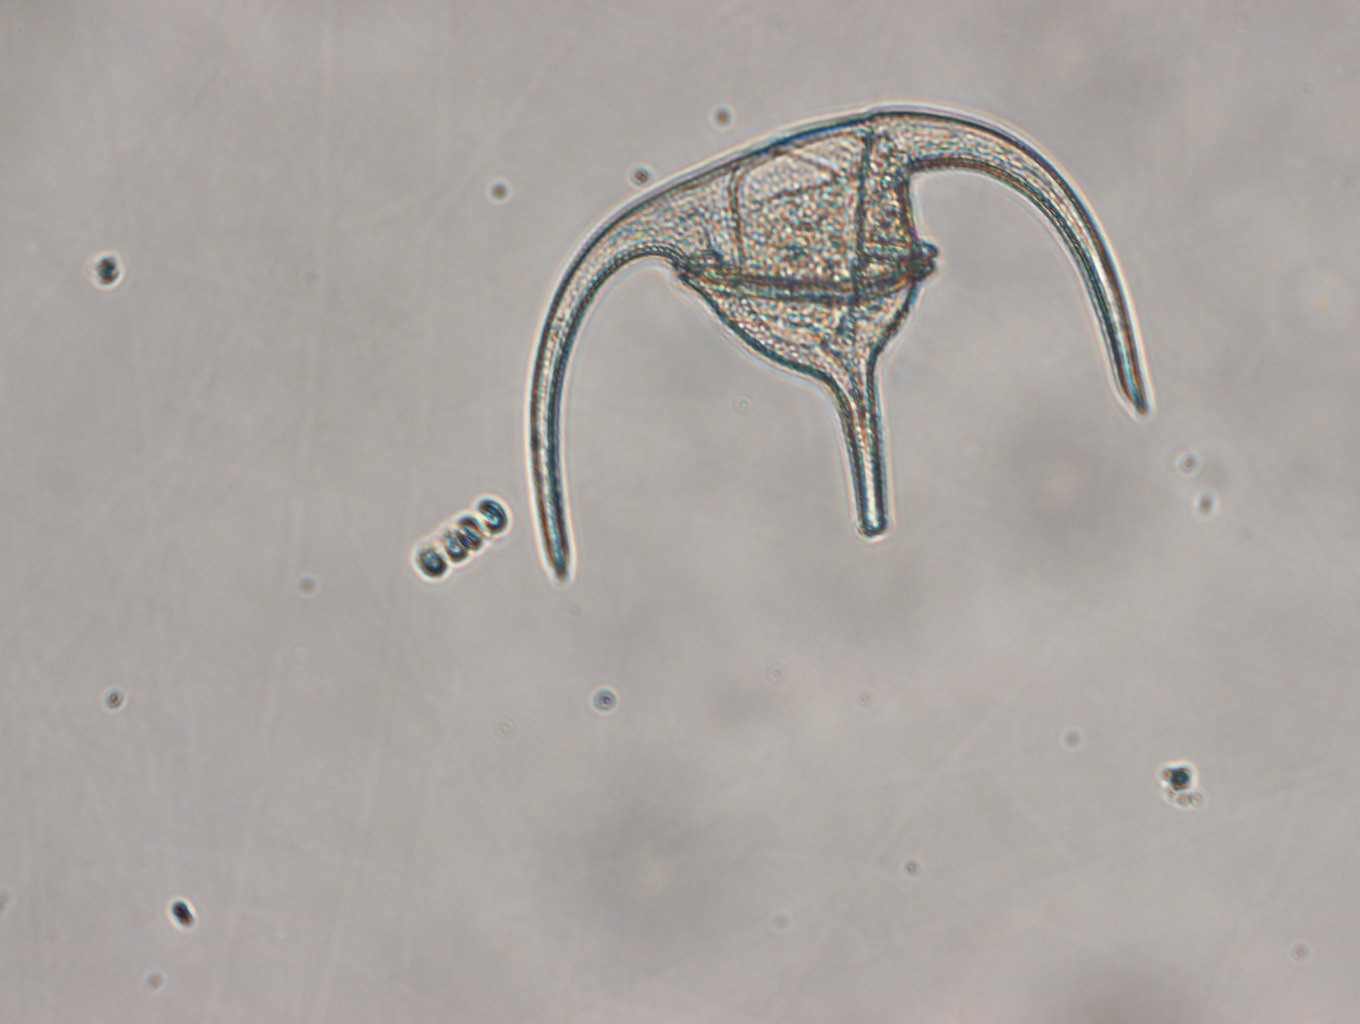ceratium tripos: (522, 103, 1157, 585)
